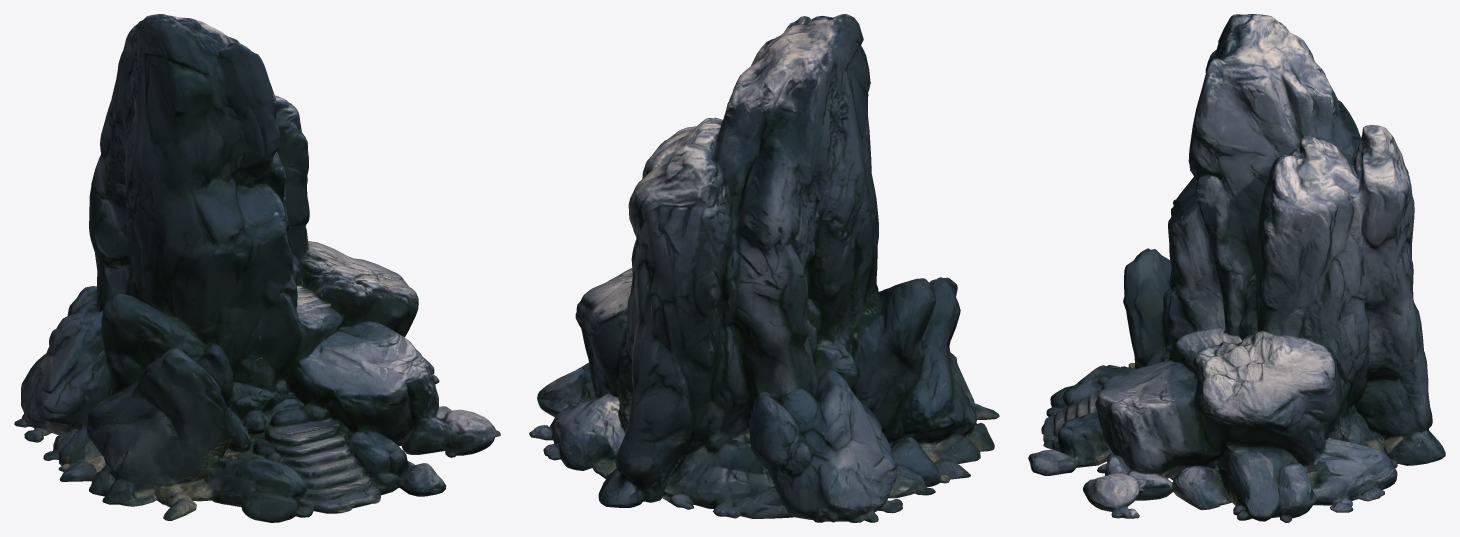
Rendered from sentinel-statue.glb.
The picture shows the model from 3 angles, left to right: view 1: azimuth 30°, elevation 25°; view 2: azimuth 150°, elevation 25°; view 3: azimuth 270°, elevation 25°; orthographic projection. The views are drawn at different scales.
Visible parts, largest first — view 1: Mesh1.0; view 2: Mesh1.0; view 3: Mesh1.0.
Part boxes in pixels (bbox=[...]): Mesh1.0: bbox=[14, 14, 500, 522]; Mesh1.0: bbox=[529, 14, 999, 522]; Mesh1.0: bbox=[1028, 14, 1445, 522].
Size of the model in its own units: 1.82 by 1.9 by 1.85.
1 material, 1 textured.
